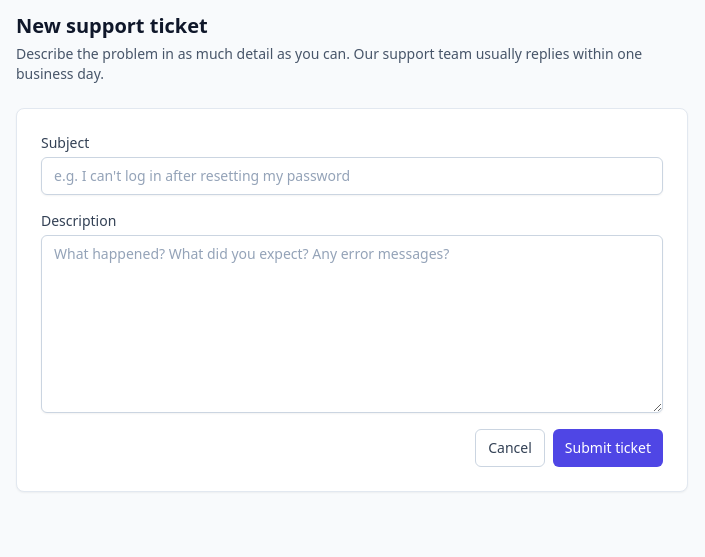
Test: NewTicketPage › validates the form before submitting
This screenshot has width=705, height=557.
In the field labelled "Subject": (352, 176) [41, 157, 663, 195], type "Hi"
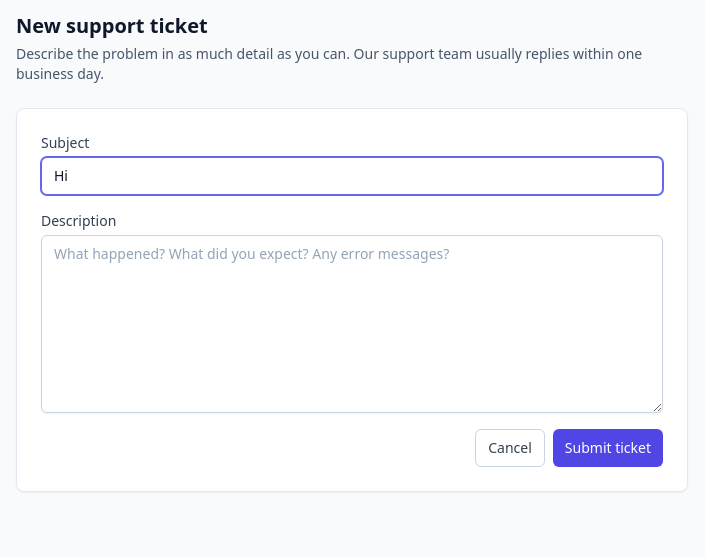
In the text box labelled "Description": (352, 324) [41, 235, 663, 413], type "short"
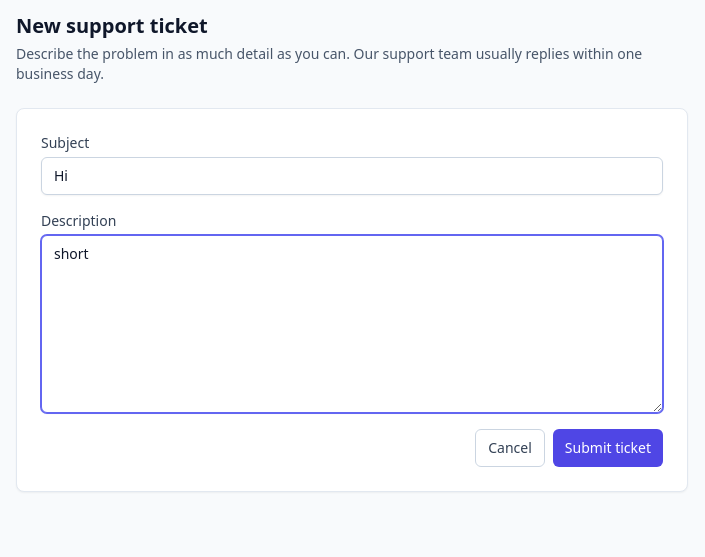
Click the button "Submit ticket": (608, 448) [553, 429, 663, 467]
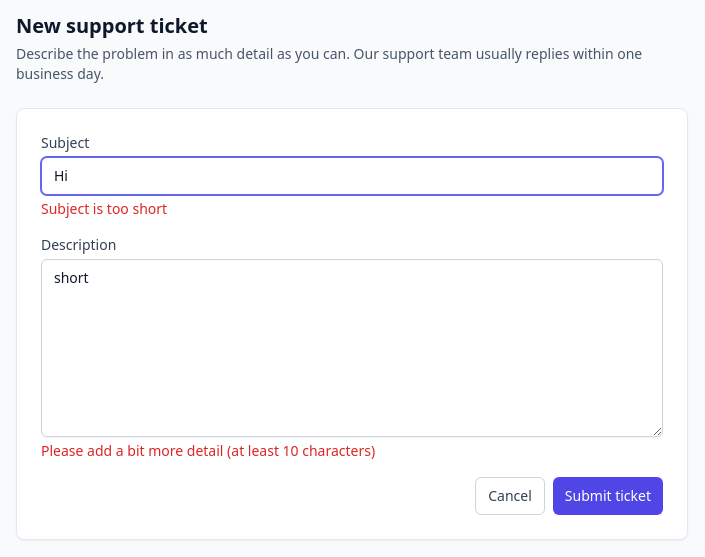
Expected: the text "Subject is too short" is shown, [41, 199, 167, 218]
Expected: the text "Please add a bit more detail (at least 10 characters)" is shown, [41, 441, 375, 460]
